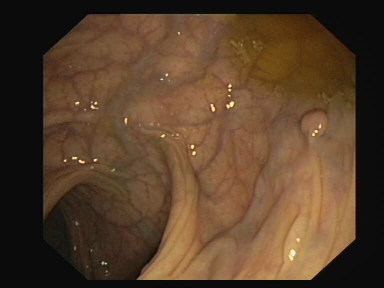polyp: (283, 83, 348, 156)
